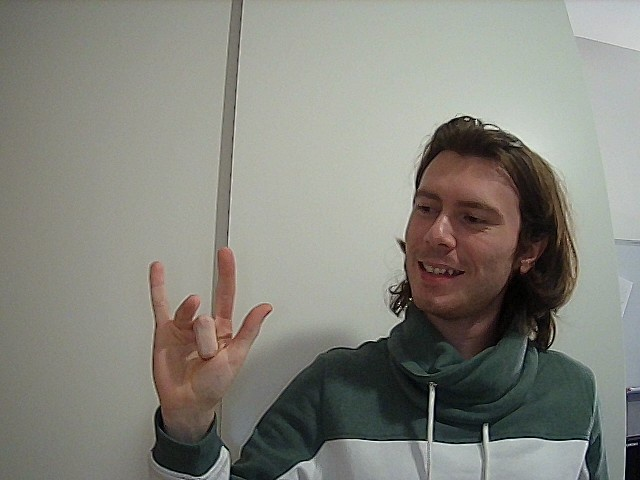reset: (138, 233, 278, 409)
